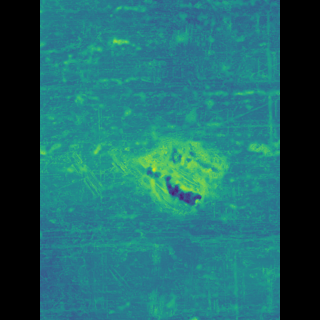Loch: (136, 132, 209, 213), (110, 103, 136, 178), (88, 152, 118, 193)
